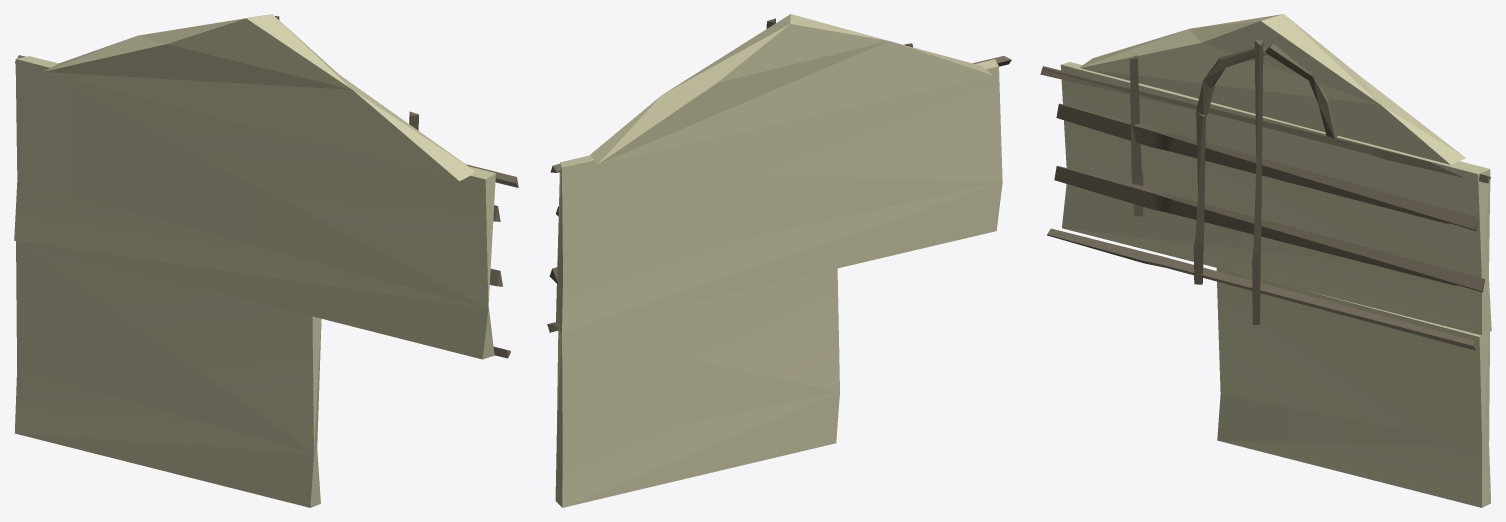
File: RedBackWall.fbx
3 views of the same model, side by side, from view 1: azimuth 90°, elevation 25°; view 2: azimuth 150°, elevation 25°; view 3: azimuth 270°, elevation 25° (orthographic). The views are drawn at different scales.
Visible parts, largest first — view 1: RedBackWall_Merged; view 2: RedBackWall_Merged; view 3: RedBackWall_Merged.
Part boxes in pixels (left/top/right/bottom): RedBackWall_Merged: left=14, top=14, right=518, bottom=507; RedBackWall_Merged: left=547, top=14, right=1011, bottom=507; RedBackWall_Merged: left=1040, top=14, right=1491, bottom=507.
Size of the model in its own units: 633 by 1046 by 995.
